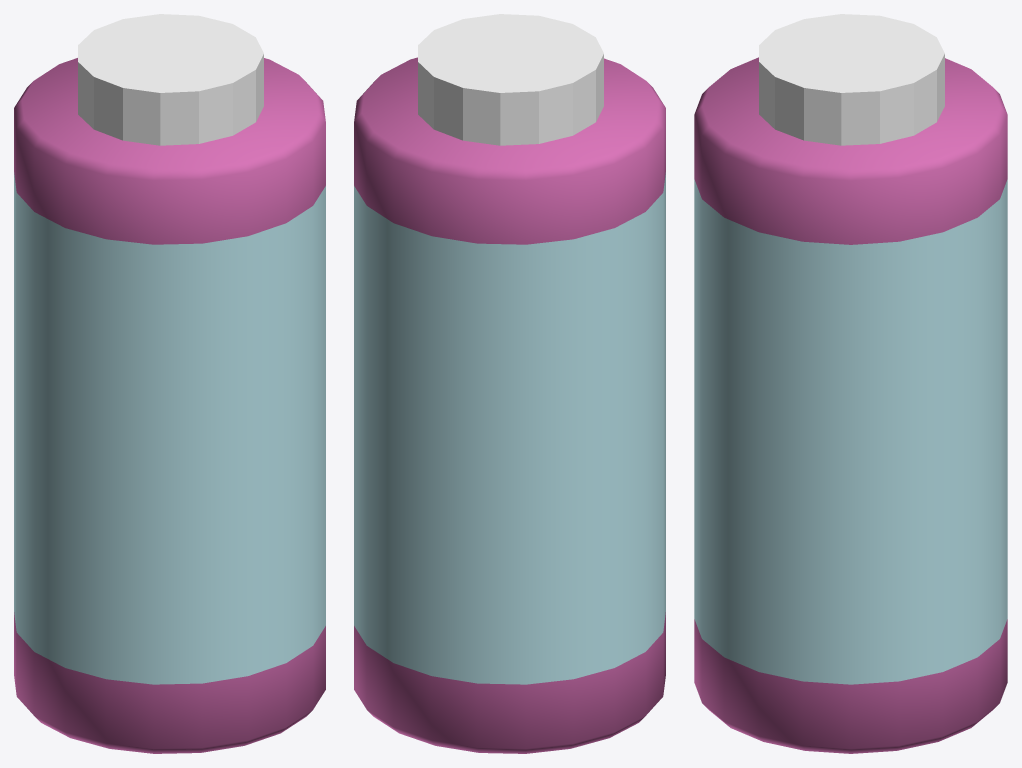
The model's file is BubbleBottle.fbx.
3 renders of one model, left to right at view 1: azimuth 30°, elevation 25°; view 2: azimuth 150°, elevation 25°; view 3: azimuth 270°, elevation 25°, orthographic.
Visible parts, largest first — view 1: Bubble Bottle, Cap; view 2: Bubble Bottle, Cap; view 3: Bubble Bottle, Cap.
Boxes of the visible parts, <box> form: Bubble Bottle: <box>14,58,325,753</box>; Cap: <box>78,14,263,145</box>; Bubble Bottle: <box>354,57,665,753</box>; Cap: <box>418,14,603,145</box>; Bubble Bottle: <box>694,57,1007,753</box>; Cap: <box>759,14,944,145</box>.
Bounding box in the file's own units: 100 × 225 × 100.
